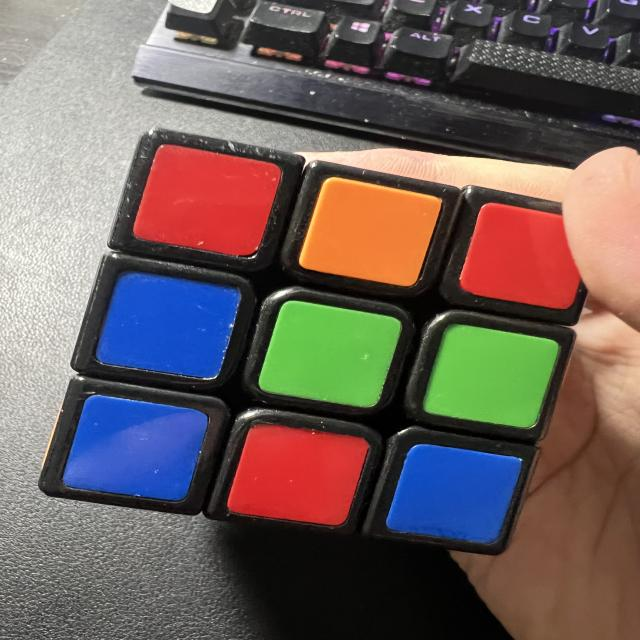blue: (59, 390, 210, 509), (94, 268, 243, 382), (384, 440, 524, 548)
center: (257, 296, 403, 413)
green: (255, 298, 402, 409), (422, 321, 559, 431)
orange: (295, 174, 445, 291)
red: (129, 139, 282, 264), (223, 419, 368, 531), (457, 197, 593, 313)
